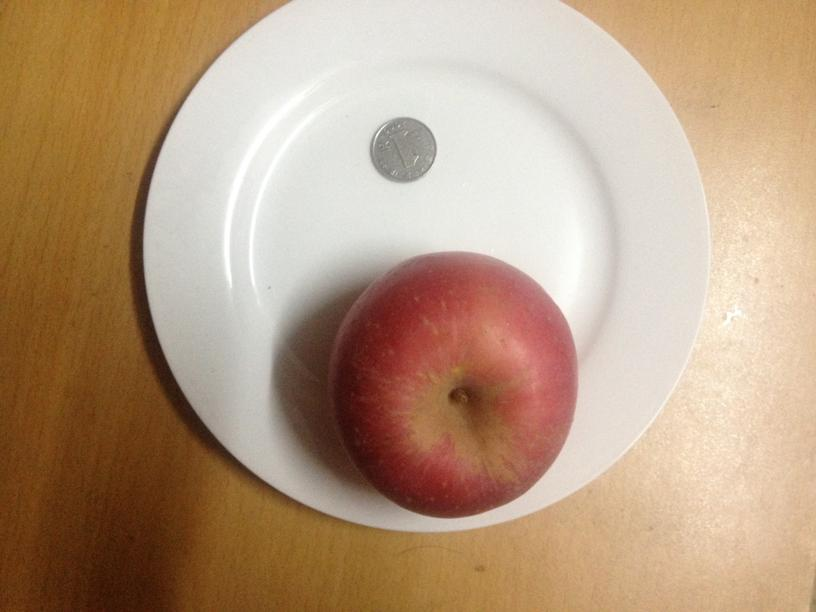apple: (334, 250, 578, 519)
coin: (370, 117, 436, 182)
